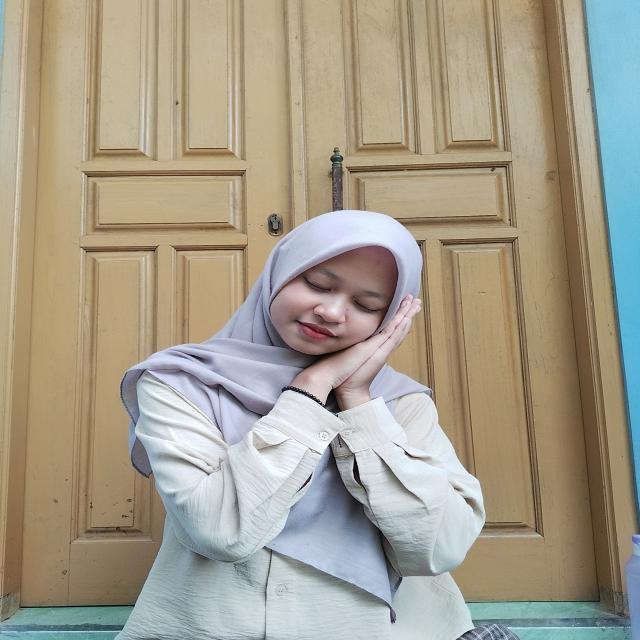tidur: (268, 298, 428, 436)
